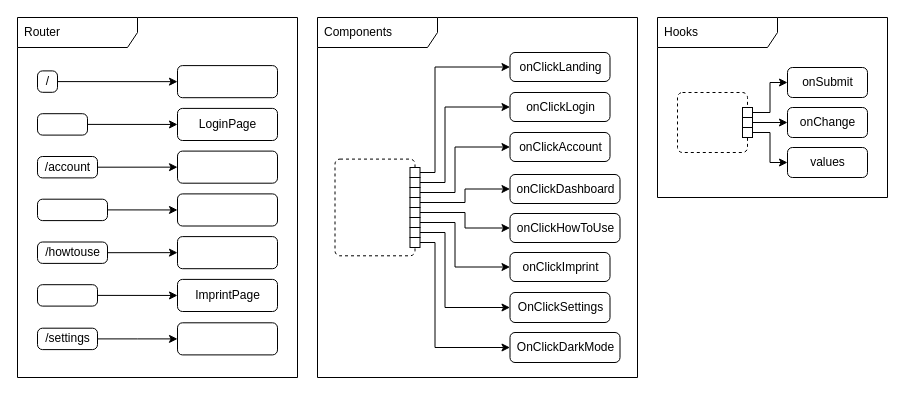
This 905x395 diagram has some shape labels left out. Each missing label, with the centre of its shape:
/dashboard: point (72, 209)
/imprint: point (67, 295)
/login: point (62, 124)
AccountPage: point (227, 166)
DashboardPage: point (227, 209)
HowToUsePage: point (227, 252)
LandingPage: point (227, 81)
navbar: point (374, 207)
SettingsPage: point (227, 338)
useForm: point (712, 122)
